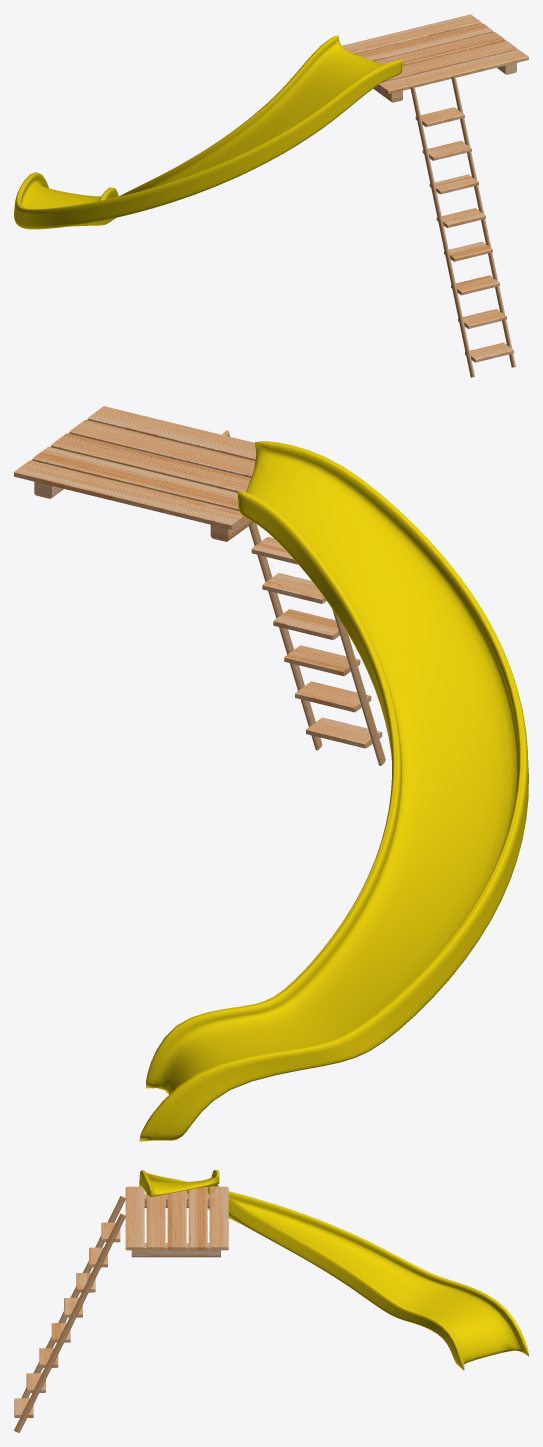
File: Tree House.fbx
The picture shows the model from 3 angles, top to bottom: view 1: azimuth 30°, elevation 25°; view 2: azimuth 150°, elevation 25°; view 3: azimuth 270°, elevation 25°; orthographic projection. The views are drawn at different scales.
Visible parts, largest first — view 1: Cube.006, Cube.003, Cube.005, Cylinder.005; view 2: Cube.006, Cube.003, Cube.005, Cylinder.005; view 3: Cube.006, Cube.003, Cylinder.005, Cube.005, Cube.004.
Part boxes in pixels (bbox=[...]): Cube.006: bbox=[14, 35, 403, 229]; Cube.003: bbox=[342, 14, 528, 94]; Cube.005: bbox=[415, 107, 513, 362]; Cylinder.005: bbox=[410, 76, 515, 377]; Cube.006: bbox=[139, 441, 528, 1141]; Cube.003: bbox=[14, 406, 256, 529]; Cube.005: bbox=[251, 537, 382, 748]; Cylinder.005: bbox=[222, 430, 385, 765]; Cube.006: bbox=[139, 1170, 528, 1370]; Cube.003: bbox=[125, 1186, 228, 1250]; Cylinder.005: bbox=[14, 1196, 125, 1432]; Cube.005: bbox=[14, 1222, 120, 1417]; Cube.004: bbox=[131, 1193, 220, 1257].
Size of the model in its own units: 3853 by 2699 by 5396.
